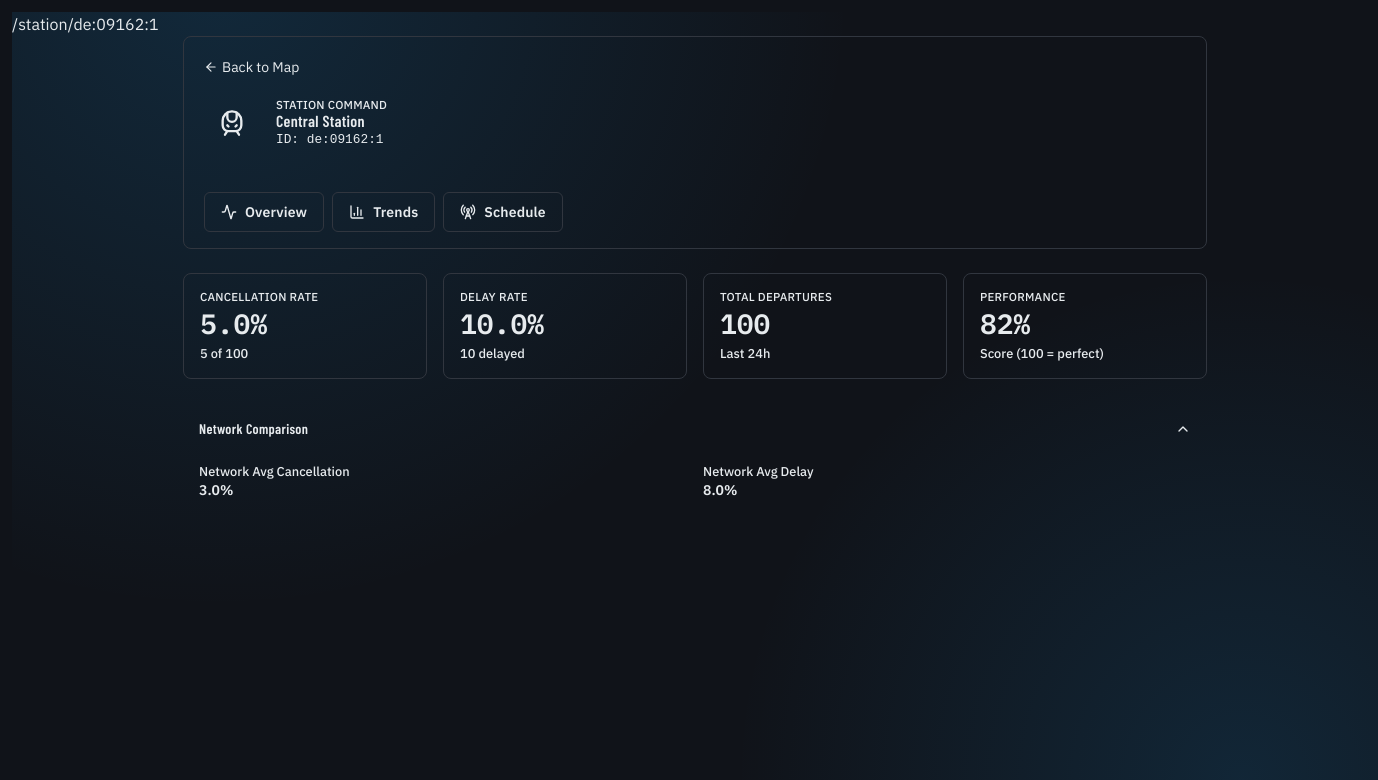
Test case: StationPage › paginates schedule via offset_minutes when no from time is set
What coordinates should you click on to do the following:
click the button "Schedule"
I would click on:
 (503, 212)
Its box is x1=443 y1=192 x2=563 y2=232.
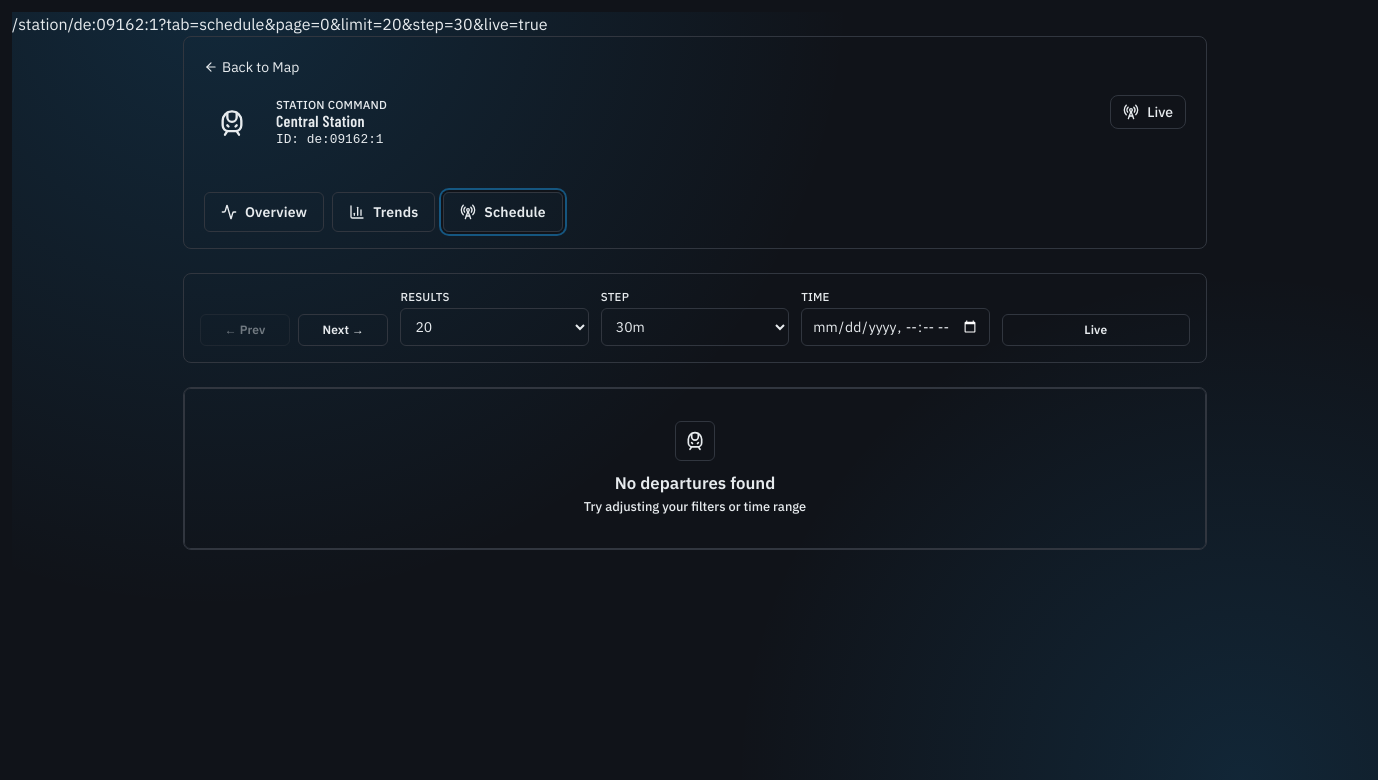
Expected: the text with test id "location" shows "tab=schedule", x1=12 y1=14 x2=548 y2=34
What coordinates should you click on to do the following:
click the button "Next →"
I would click on:
 (343, 330)
Its box is x1=298 y1=314 x2=388 y2=346.
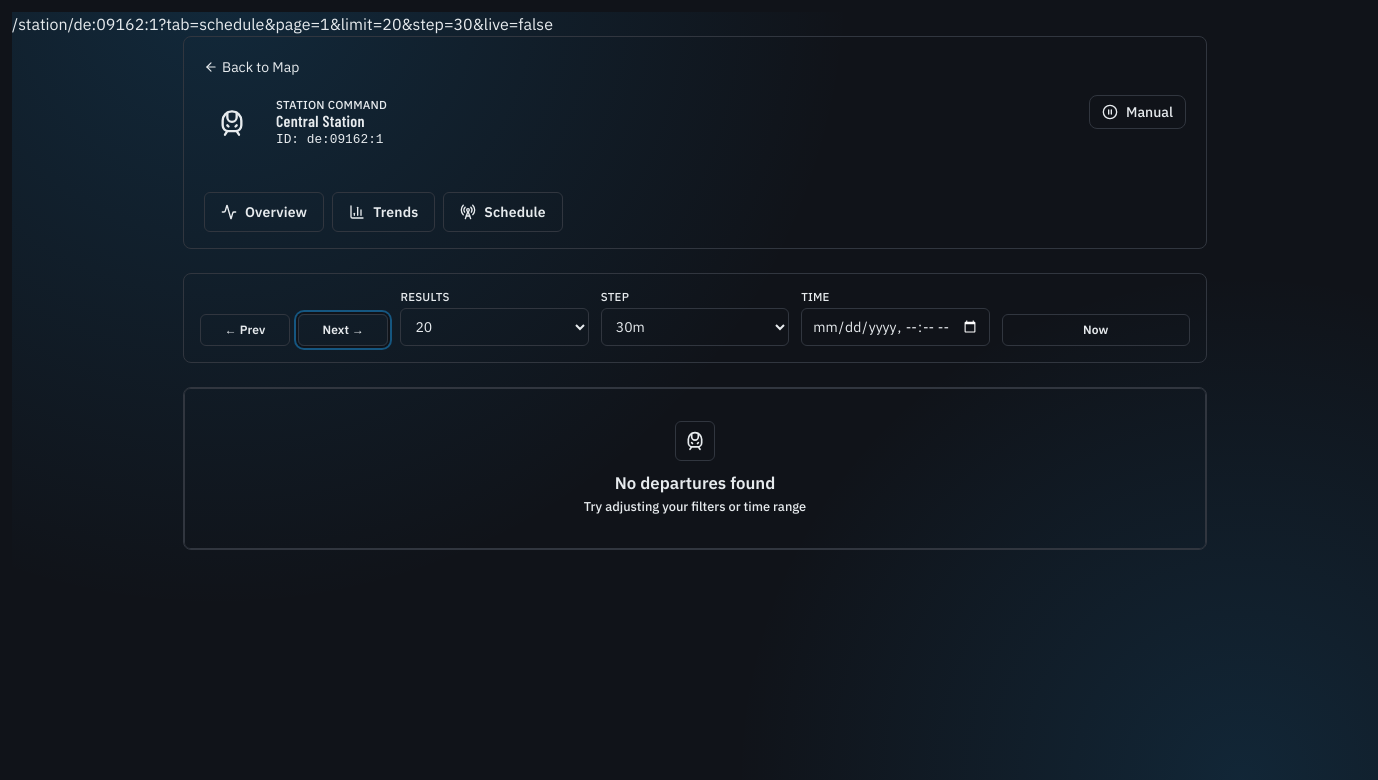
Expected: the text with test id "location" shows "page=1", x1=12 y1=14 x2=553 y2=34
Expected: the text with test id "location" shows "live=false", x1=12 y1=14 x2=553 y2=34
